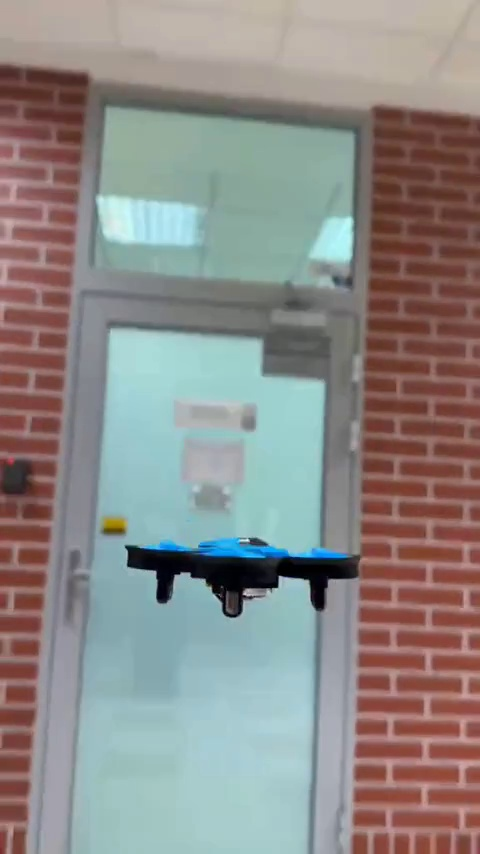drone: (126, 530, 367, 613)
